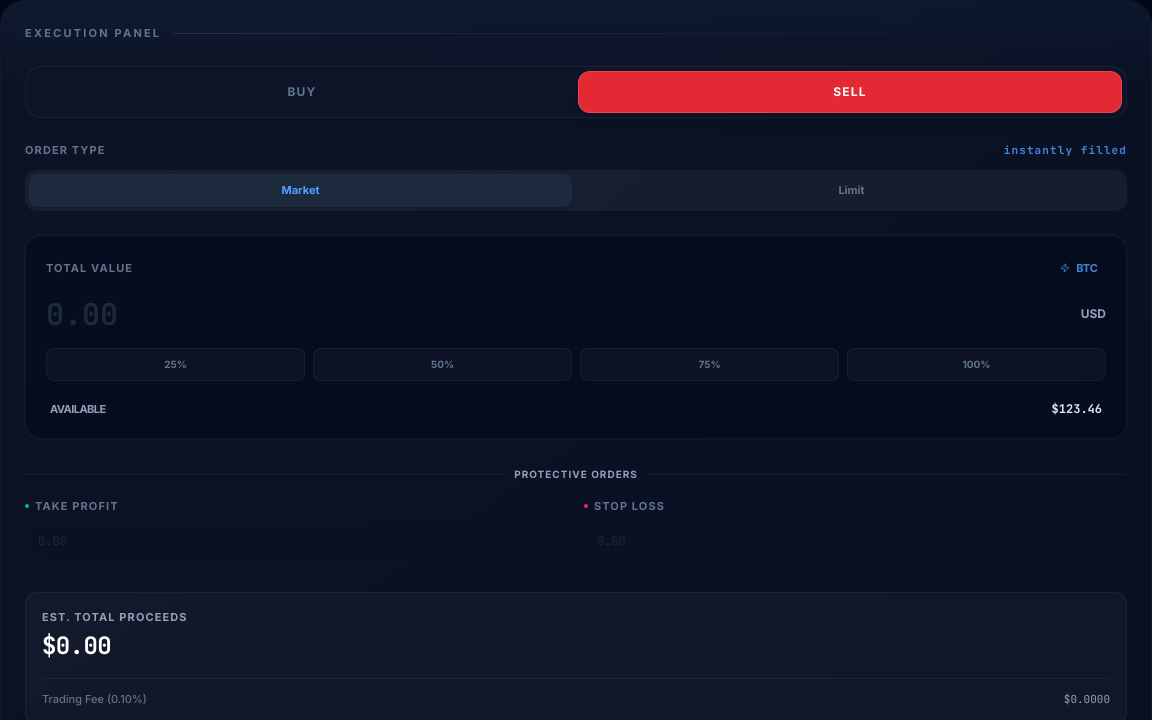
Test: TradePanel quick presets › truncates SELL 100% total-value presets instead of rounding them up
The width and height of the screenshot is (1152, 720).
Click the button "100%".
click(976, 364)  # box [847,348,1106,381]
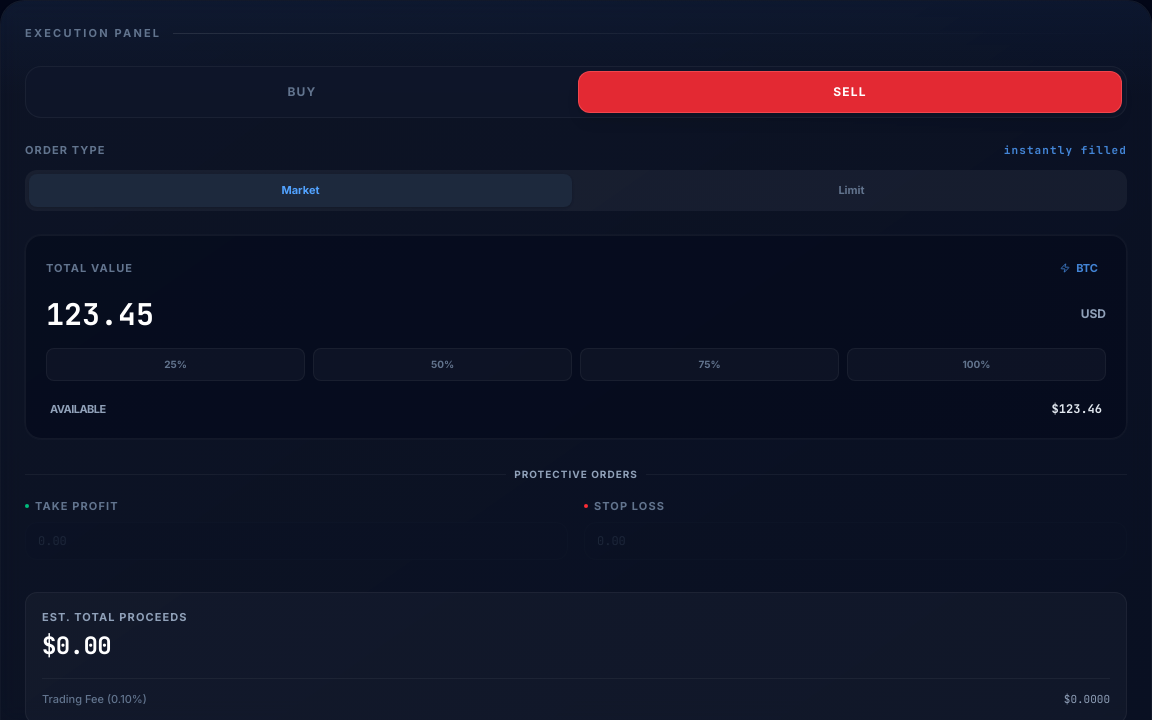
Expected: the number field named "Trade amount input" holds "123.45", [46,296,1106,332]
